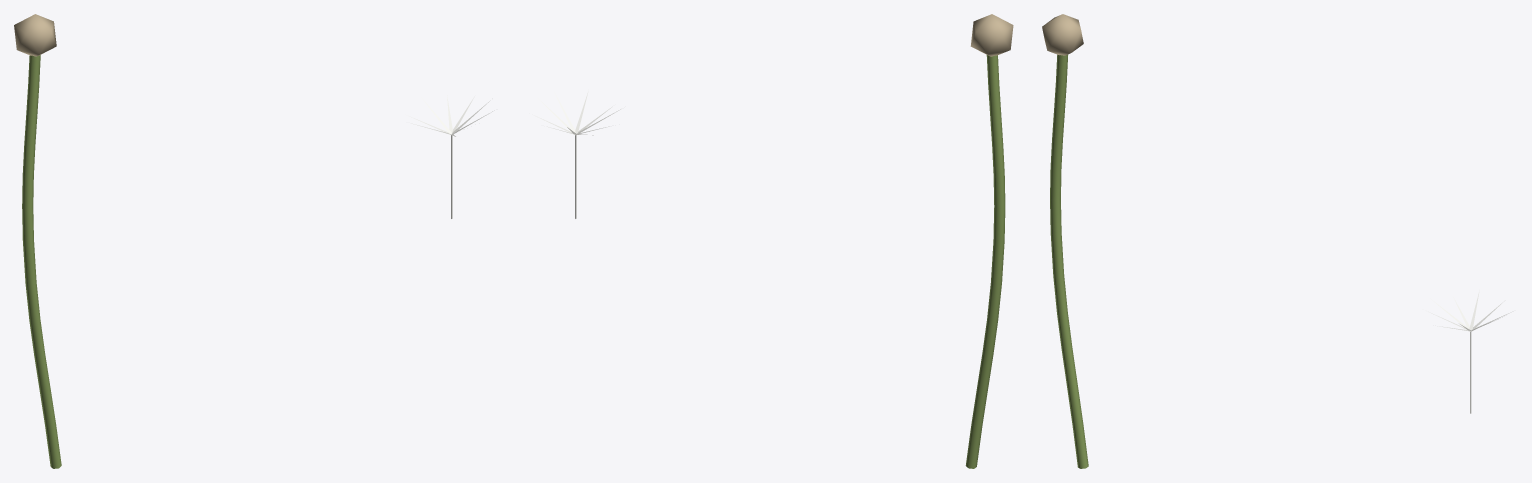
Rendered from puffballSimple.glb.
3 views of the same model, side by side, from view 1: azimuth 30°, elevation 25°; view 2: azimuth 150°, elevation 25°; view 3: azimuth 330°, elevation 25° (orthographic). The views are drawn at different scales.
Visible parts, largest first — view 1: Stem, Puffball, Seed; view 2: Stem, Puffball, Seed; view 3: Stem, Puffball, Seed.
Part boxes in pixels (left/top/right/bottom): Stem: left=22, top=55, right=61, bottom=468; Puffball: left=14, top=14, right=56, bottom=56; Seed: left=409, top=95, right=494, bottom=218; Stem: left=965, top=55, right=1005, bottom=468; Puffball: left=970, top=14, right=1013, bottom=56; Seed: left=529, top=91, right=620, bottom=218; Stem: left=1050, top=54, right=1088, bottom=468; Puffball: left=1042, top=14, right=1083, bottom=55; Seed: left=1428, top=290, right=1513, bottom=413.
Bounding box in the file's own units: 3.43 × 3.15 × 0.5435.
